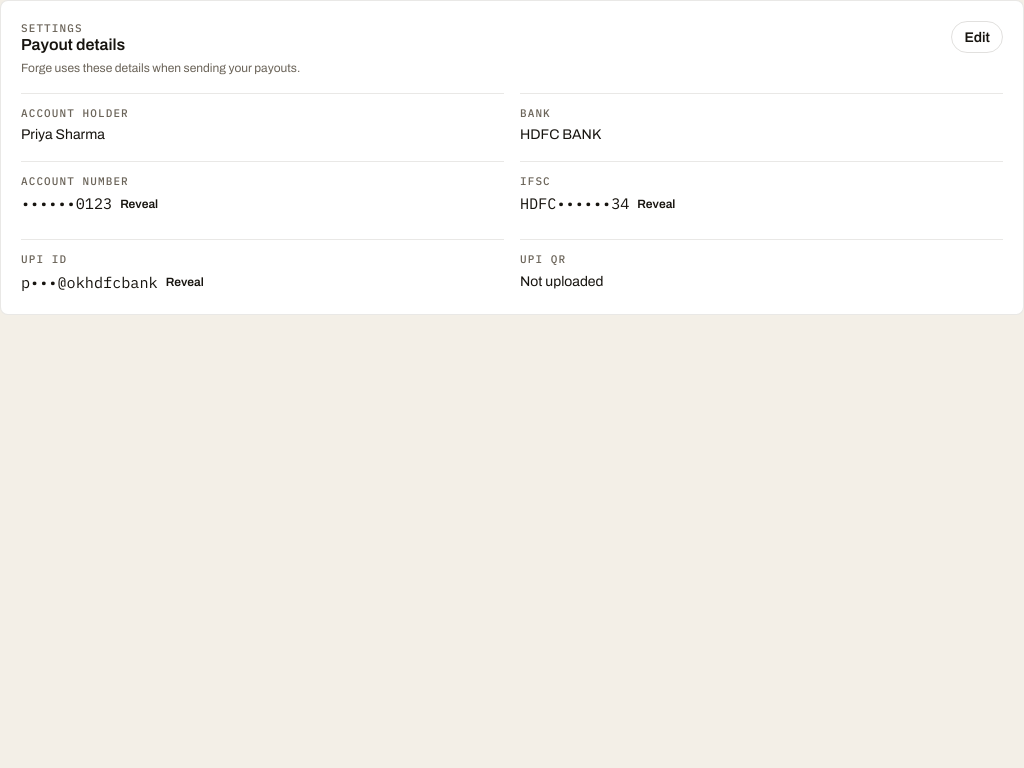
PayoutSettingsPanel — editing › cancel returns to view mode without saving
Click the button "Edit". click: {"x": 977, "y": 37}
box: [951,21,1003,53]
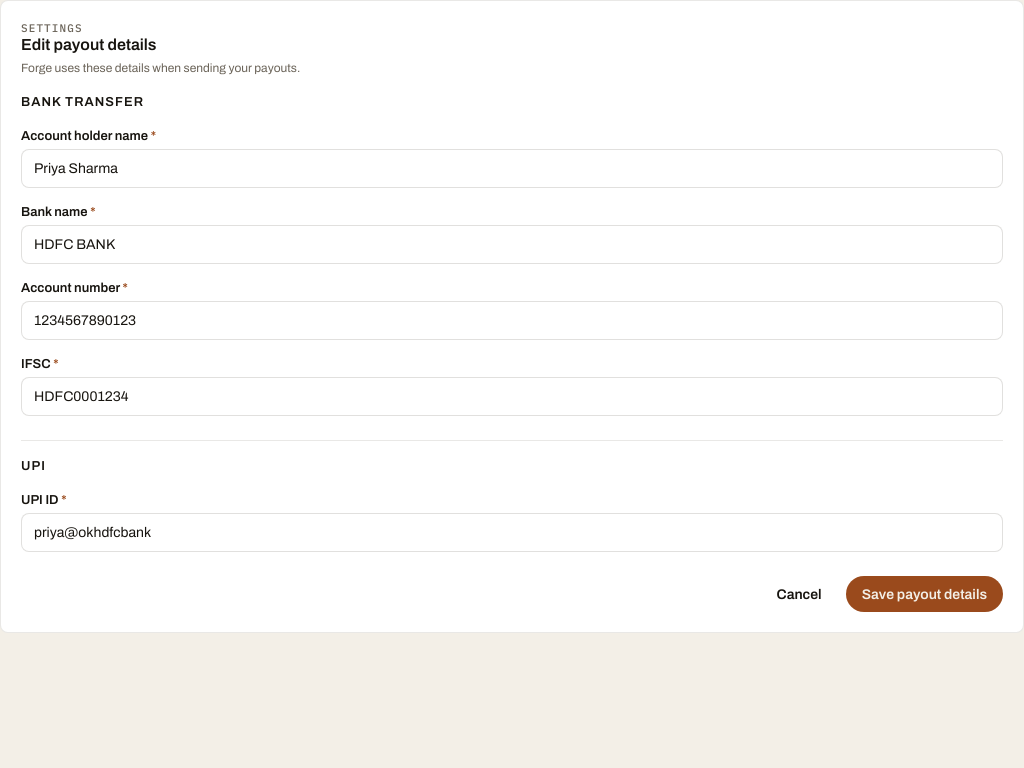
Replace the text in the field labelled "Account holder name *" with "Someone Else". click: {"x": 512, "y": 169}
box: [21,149,1003,188]
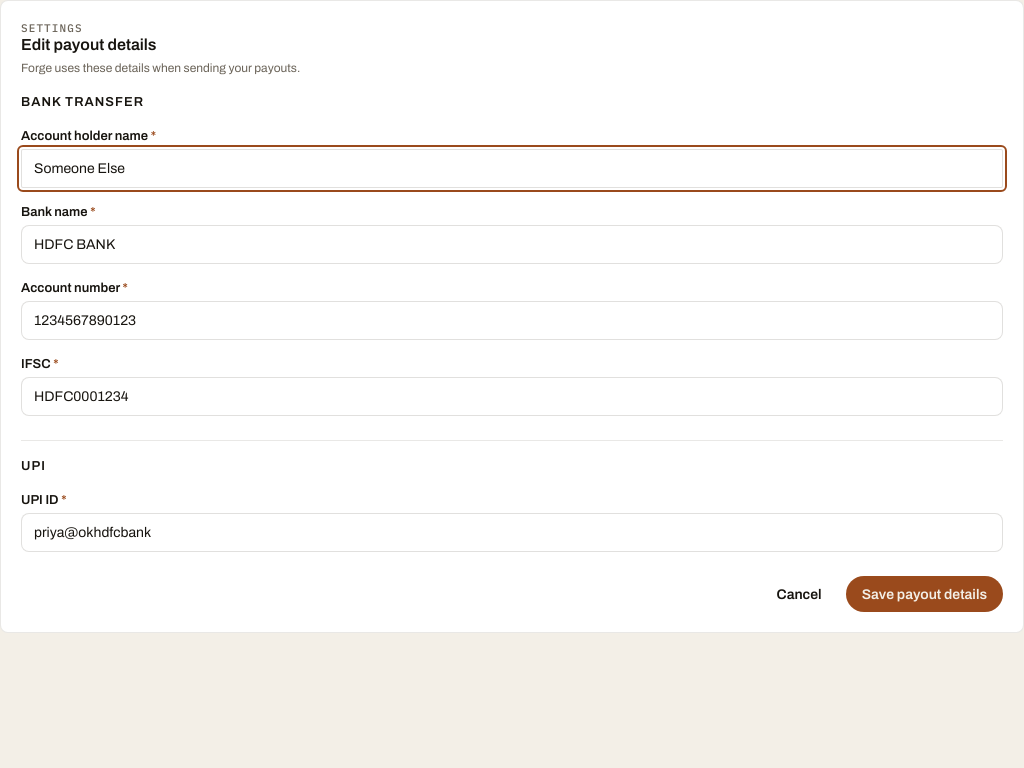
Click the button "Cancel". click: {"x": 799, "y": 594}
box: [760,576,838,612]
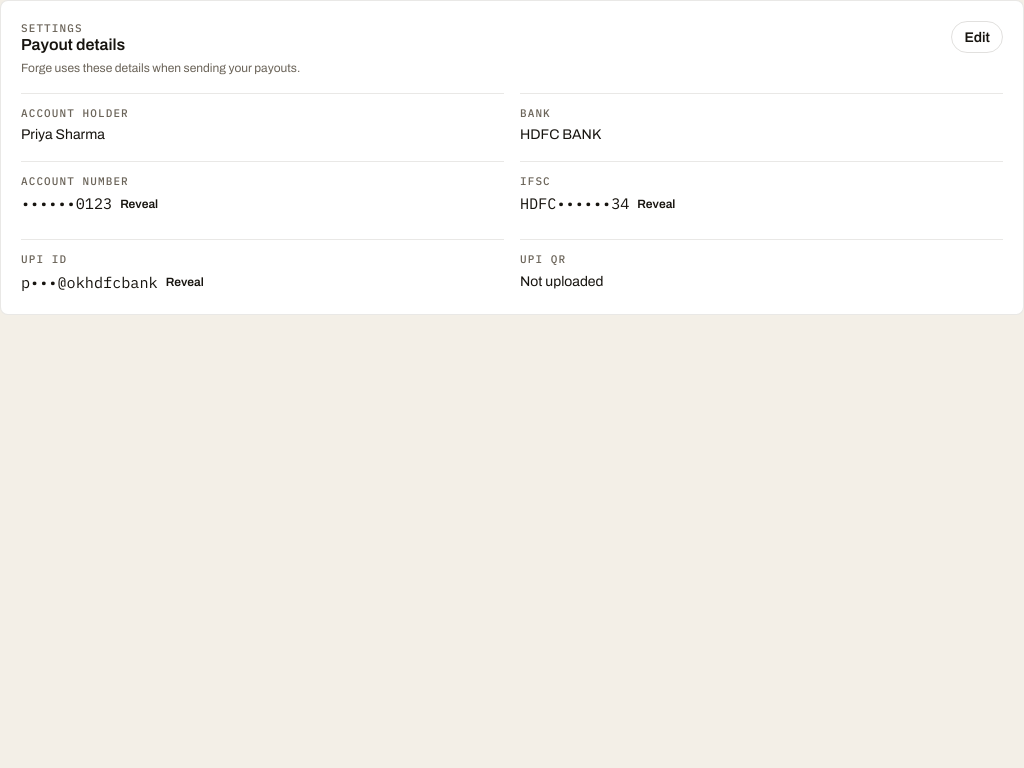
Expected: the text "Someone Else" is not shown
Now the text "Priya Sharma" is shown, box [21,127,105,142]
